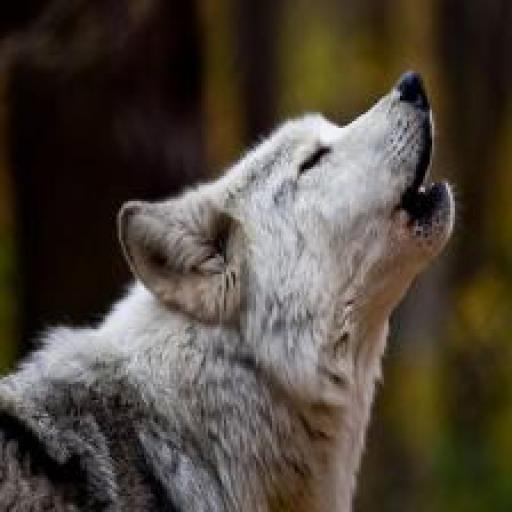wolf: (0, 59, 466, 510)
